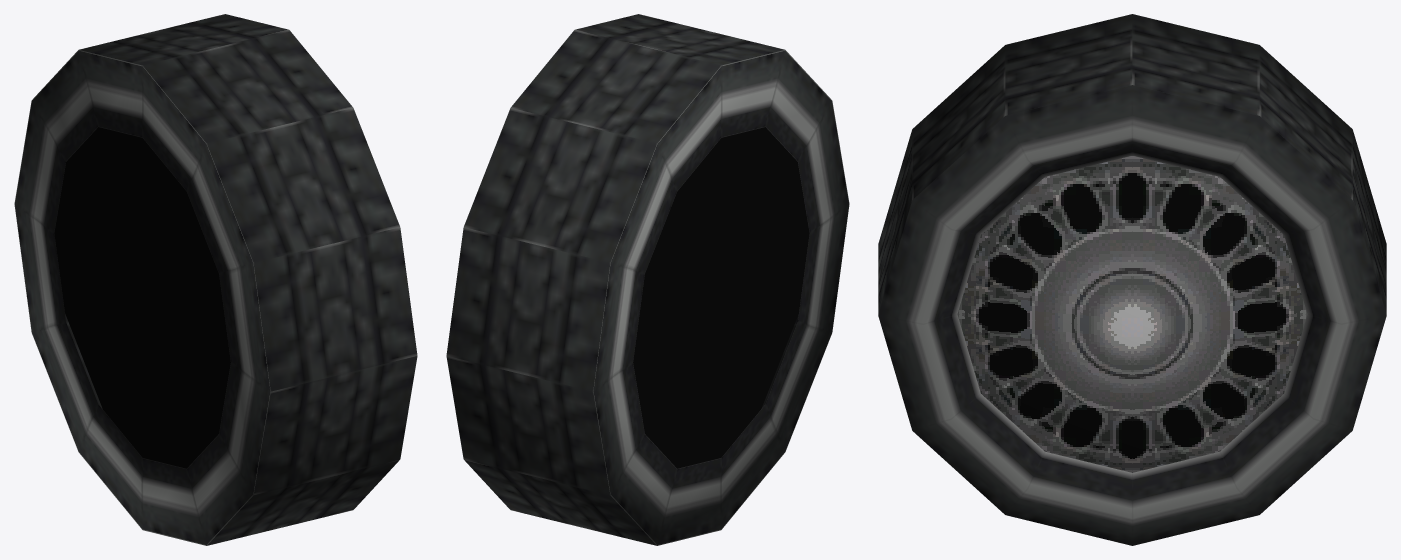
The model's file is DefaultWheel_willard.glb.
The picture shows the model from 3 angles, left to right: view 1: azimuth 30°, elevation 25°; view 2: azimuth 150°, elevation 25°; view 3: azimuth 270°, elevation 25°; orthographic projection.
Parts seen in each view (by area): view 1: wheel; view 2: wheel; view 3: wheel.
Part boxes in pixels (<box>): wheel: <box>14,14,417,545</box>; wheel: <box>446,14,849,545</box>; wheel: <box>878,14,1386,545</box>.
Bounding box in the file's own units: 0.2963 × 0.7562 × 0.7562.
3 materials, 2 textured.
